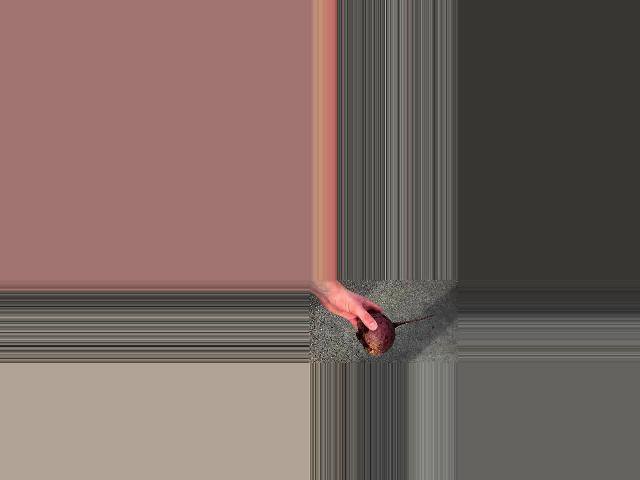beet: (356, 313, 433, 355)
